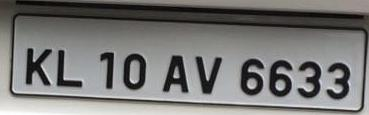0: (121, 50, 148, 90)
1: (98, 50, 116, 88)
3: (296, 59, 322, 98), (325, 60, 350, 100)
6: (267, 56, 293, 97), (239, 56, 264, 95)
A: (160, 50, 189, 93)
K: (23, 45, 52, 86)
L: (54, 47, 84, 88)
V: (193, 52, 223, 95)
